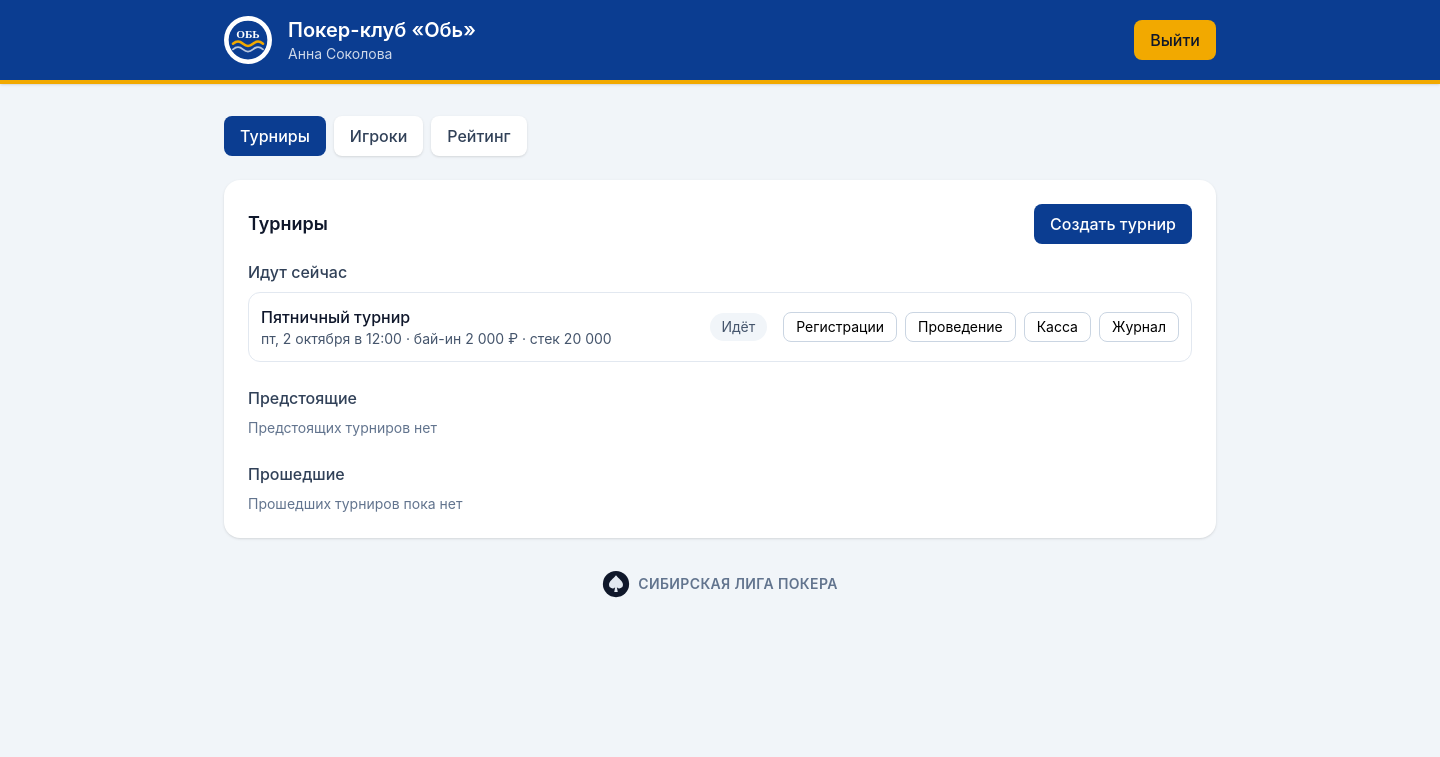
Test: tournament cashier › reverses a mistaken operation after the admin confirms
Step 1. Click the button "Касса" → (1057, 327), box [1024, 312, 1091, 342]
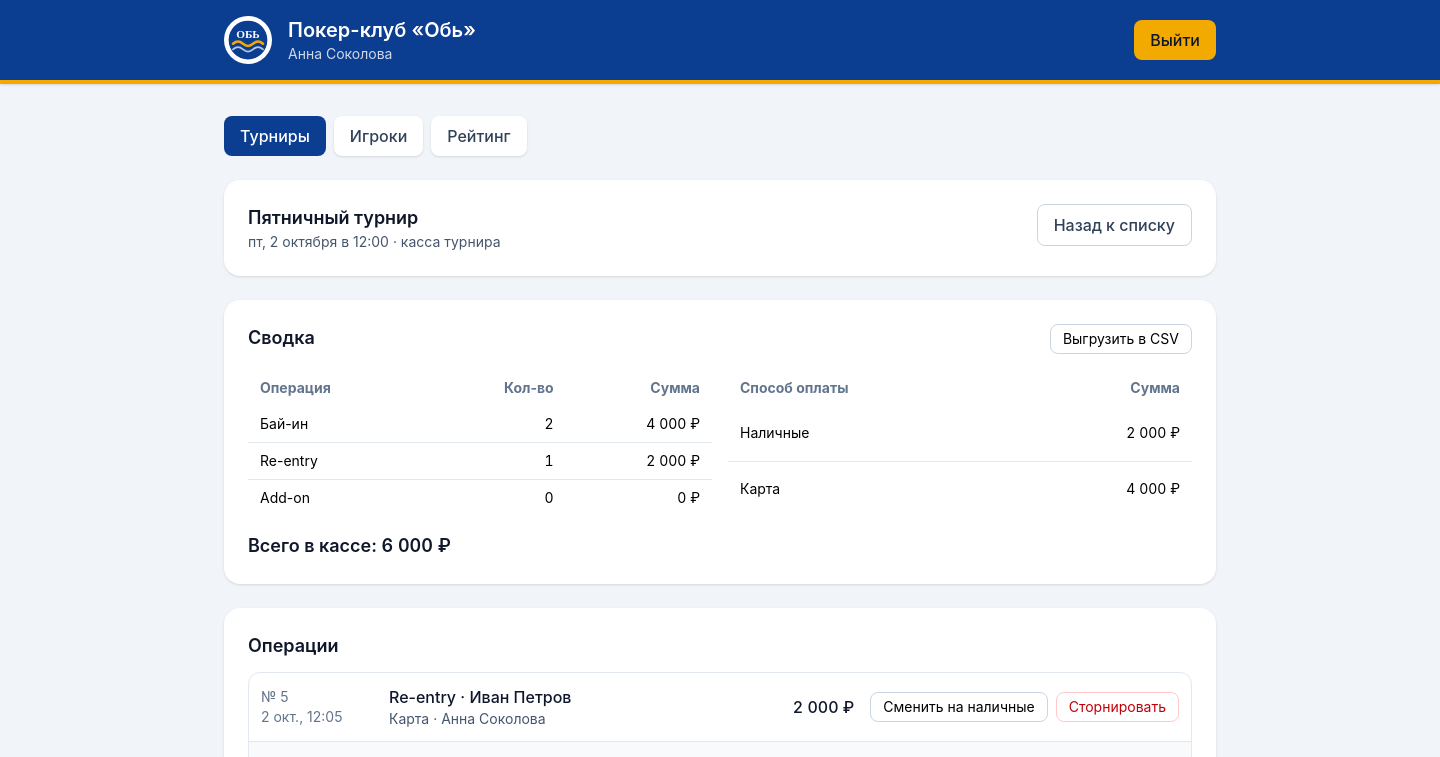
Expected: the heading "Пятничный турнир" is shown, [248, 207, 418, 228]
Step 2. Click the button "Сторнировать" → (1117, 707), box [1056, 692, 1179, 722]
(page scrolled)
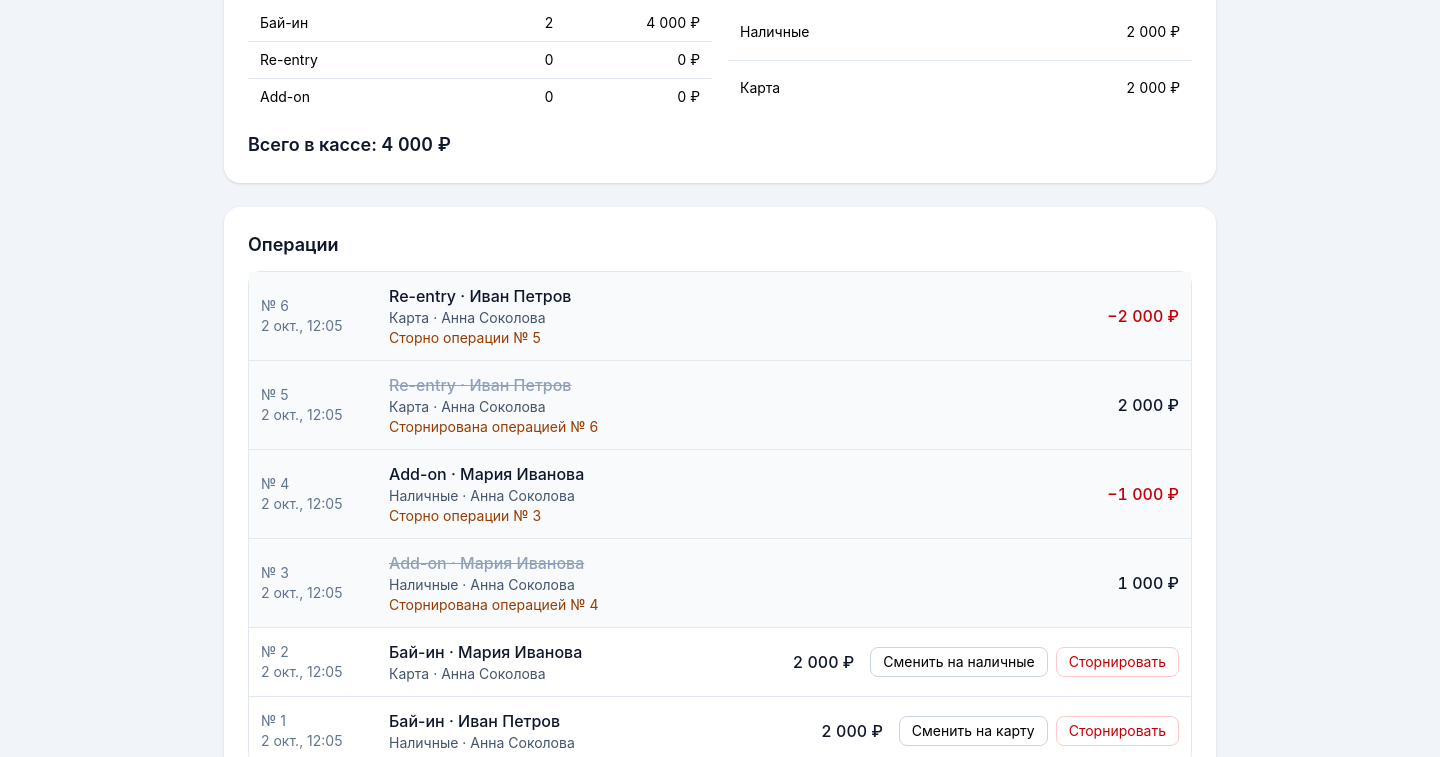
Expected: the list item with aria-label "Операция № 6" shows "Сторно операции № 5", [249, 272, 1191, 361]
Expected: the list item with aria-label "Операция № 5" shows "Сторнирована", [389, 418, 589, 435]
